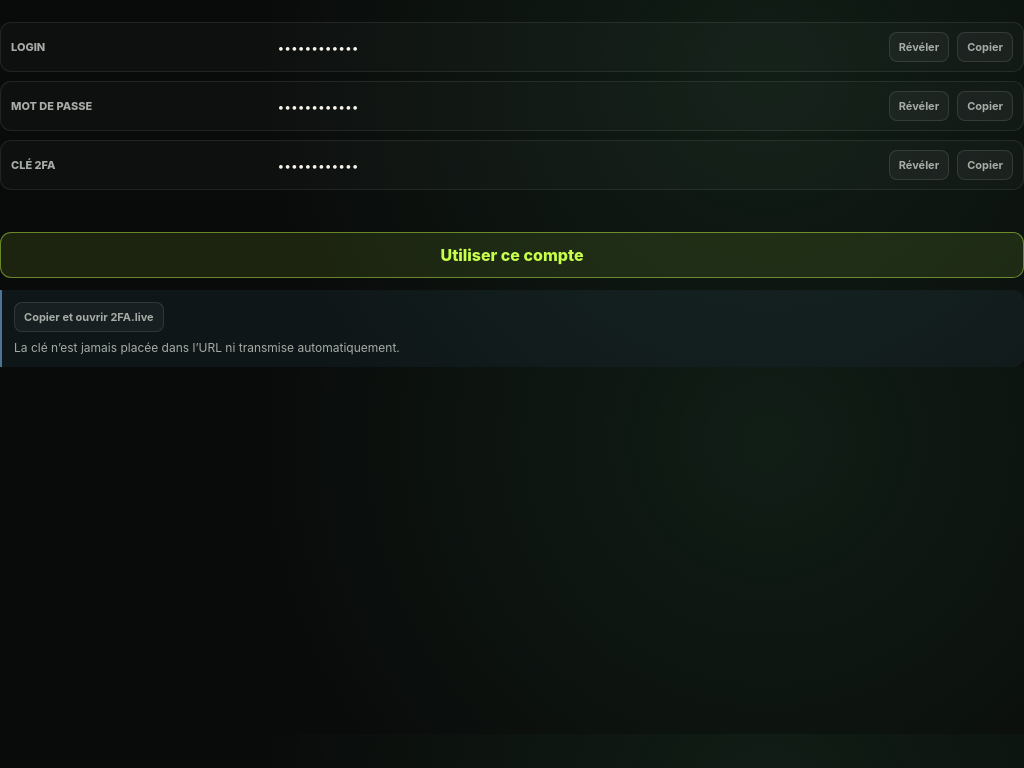
Test: actions rapides d’un compte › signale un échec de copie sans jamais transmettre la clé
What coordinates should you click on to do the following:
click the button "Copier et ouvrir 2FA.live"
I would click on:
 (89, 317)
Its box is [14, 302, 164, 332].
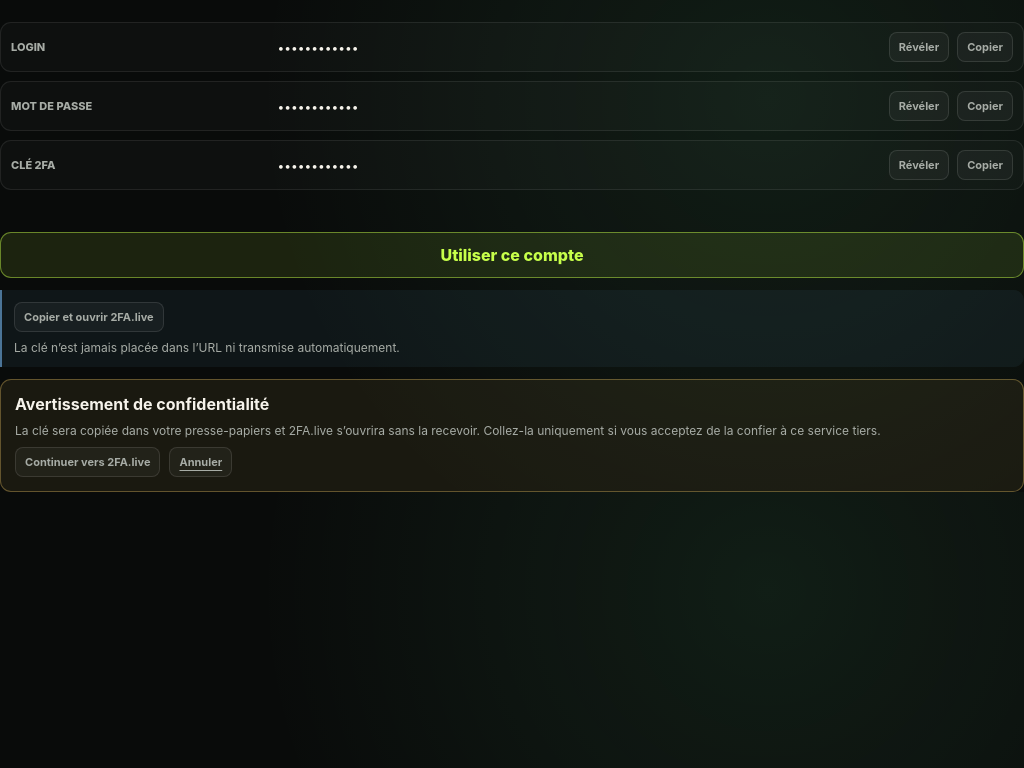
What coordinates should you click on to do the following:
click the button "Continuer vers 2FA.live"
I would click on:
 (88, 462)
Its box is [15, 447, 160, 477].
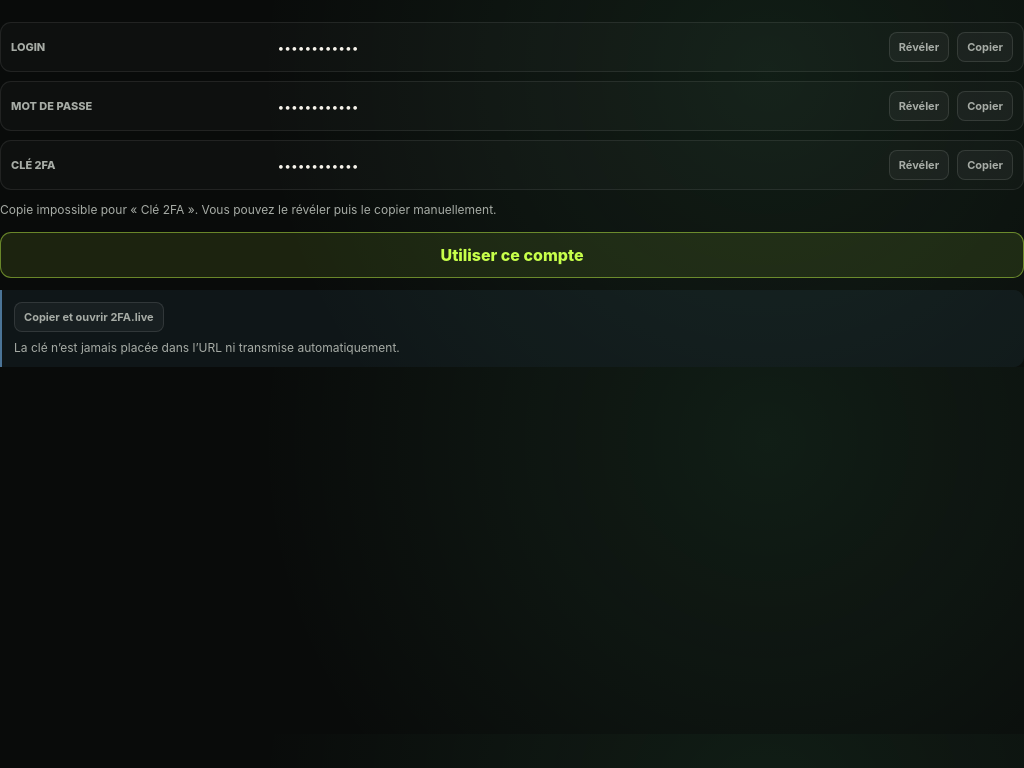
Result: the message shows "Copie impossible" at [0, 202, 496, 217]
